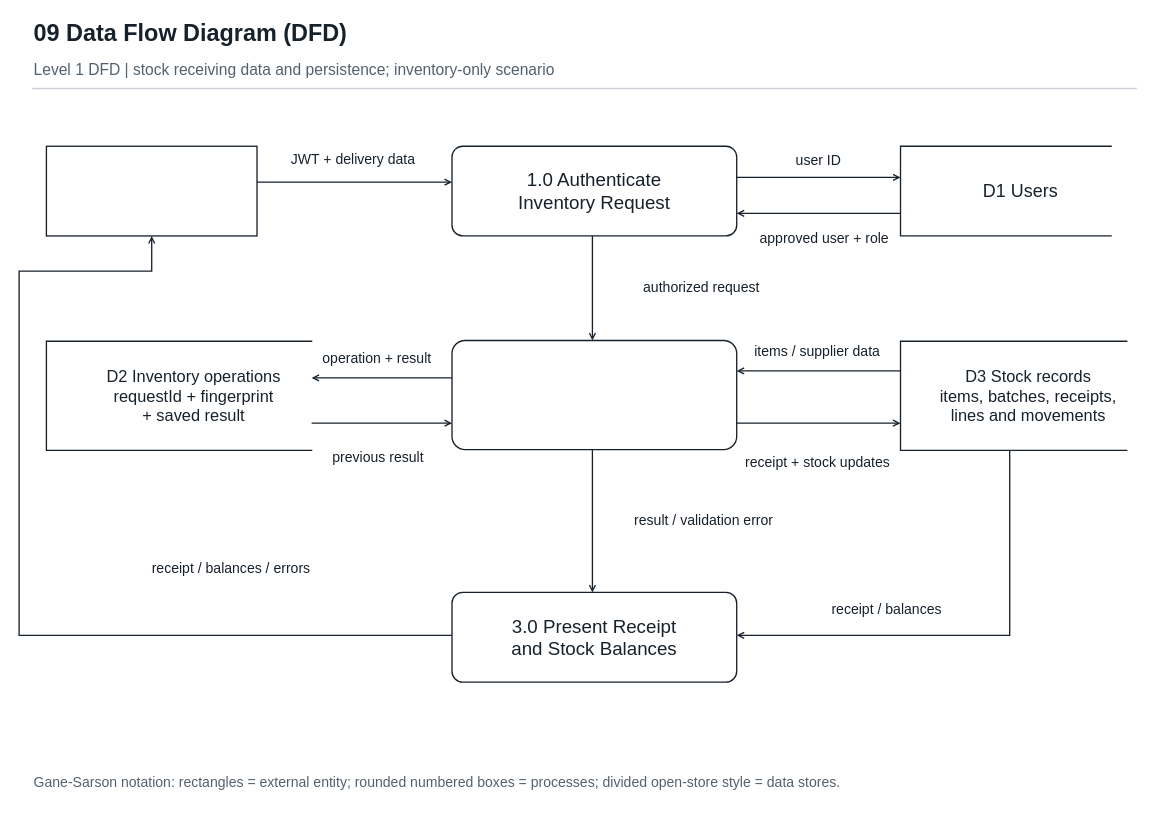
The diagram is 1152 pixels wide and 815 high, and some of its shapes have lost their labels. Here are the shapes that lost their labels. From the top down, the centre of each, then its label:
the point at 151,190: Inventory Staff or Admin
the point at 594,394: 2.0 Validate and Record Stock Receipt
